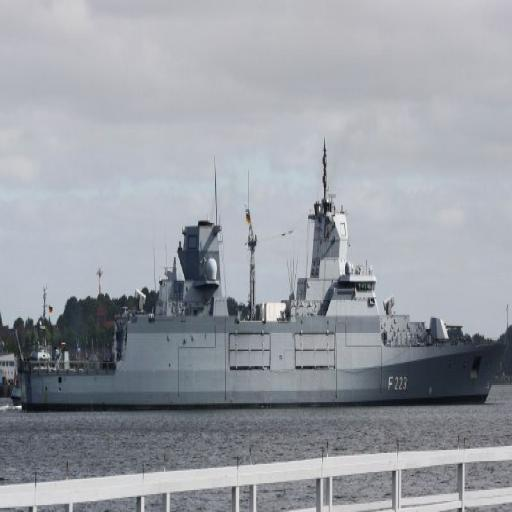Fragata: (13, 142, 512, 424)
